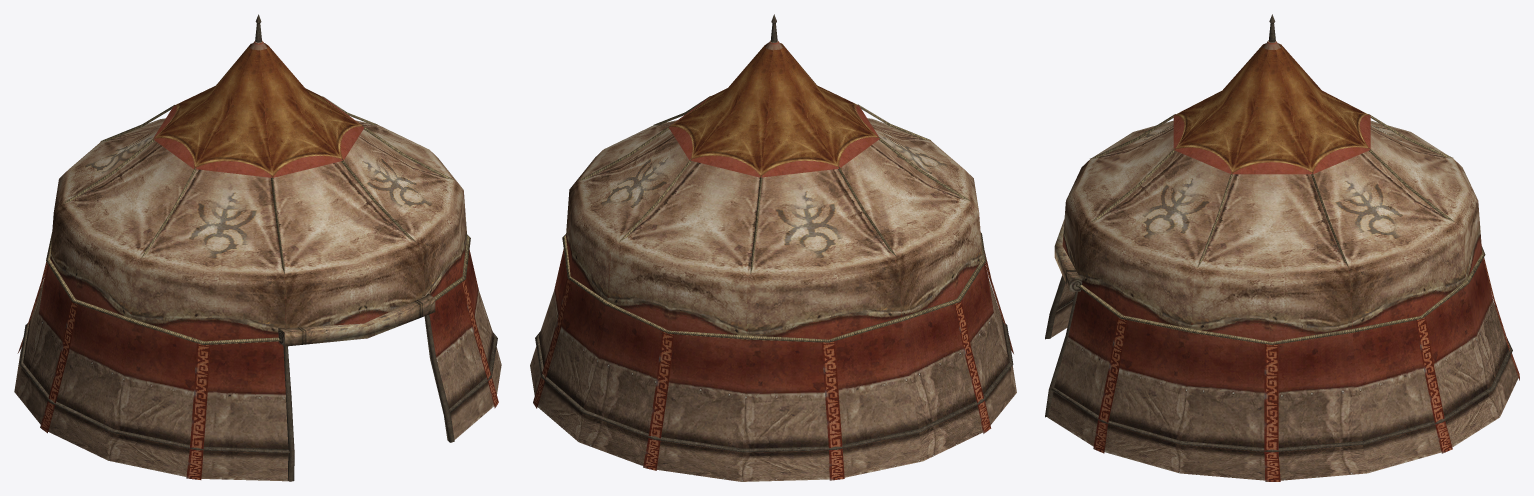
Rendered from triton_tent_01.fbx.
The picture shows the model from 3 angles, left to right: view 1: azimuth 30°, elevation 25°; view 2: azimuth 150°, elevation 25°; view 3: azimuth 270°, elevation 25°; orthographic projection.
Parts seen in each view (by area): view 1: Object19; view 2: Object19; view 3: Object19.
Part boxes in pixels (x1,y1,x2,y2): Object19: (14,14,501,481); Object19: (530,14,1016,481); Object19: (1045,14,1519,481).
Size of the model in its own units: 14.81 by 12.07 by 14.26.
